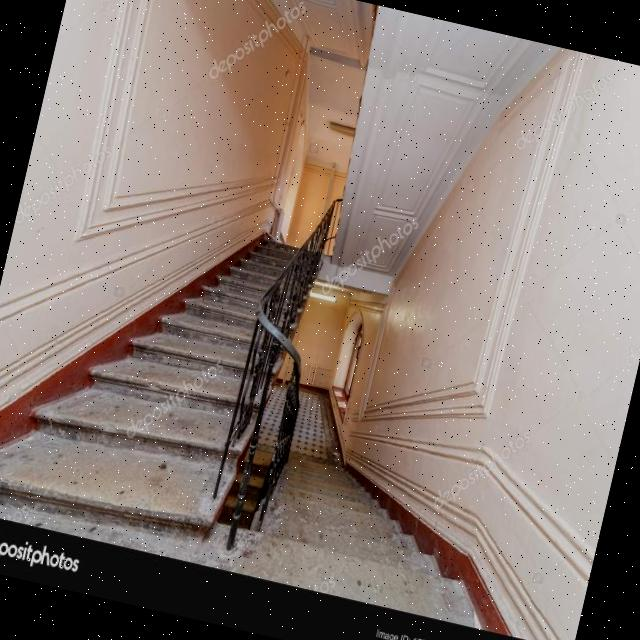stairs: (0, 174, 326, 560)
